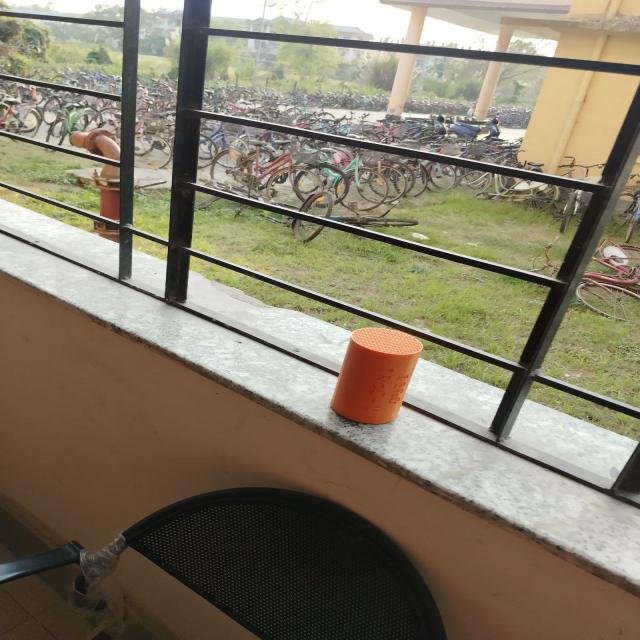Cylinder: (328, 326, 422, 424)
